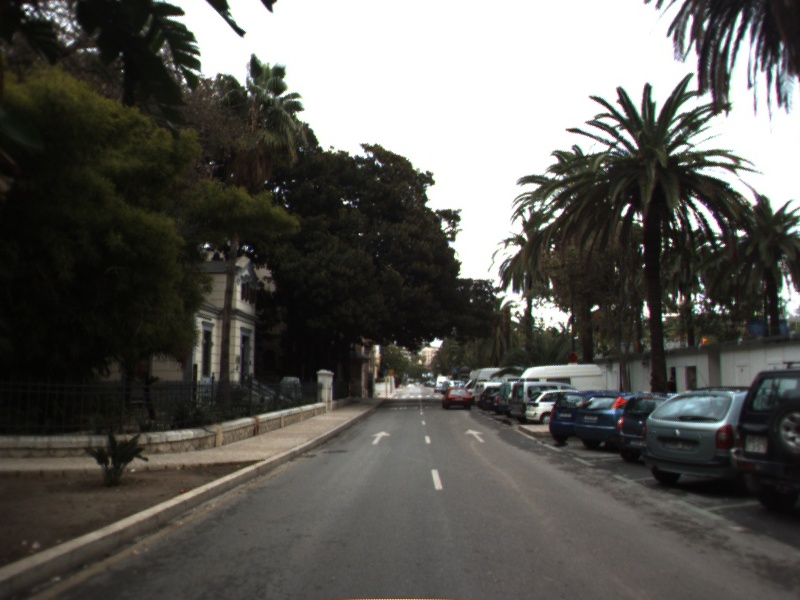STRAIGHT: (462, 427, 486, 444), (369, 430, 393, 446)
